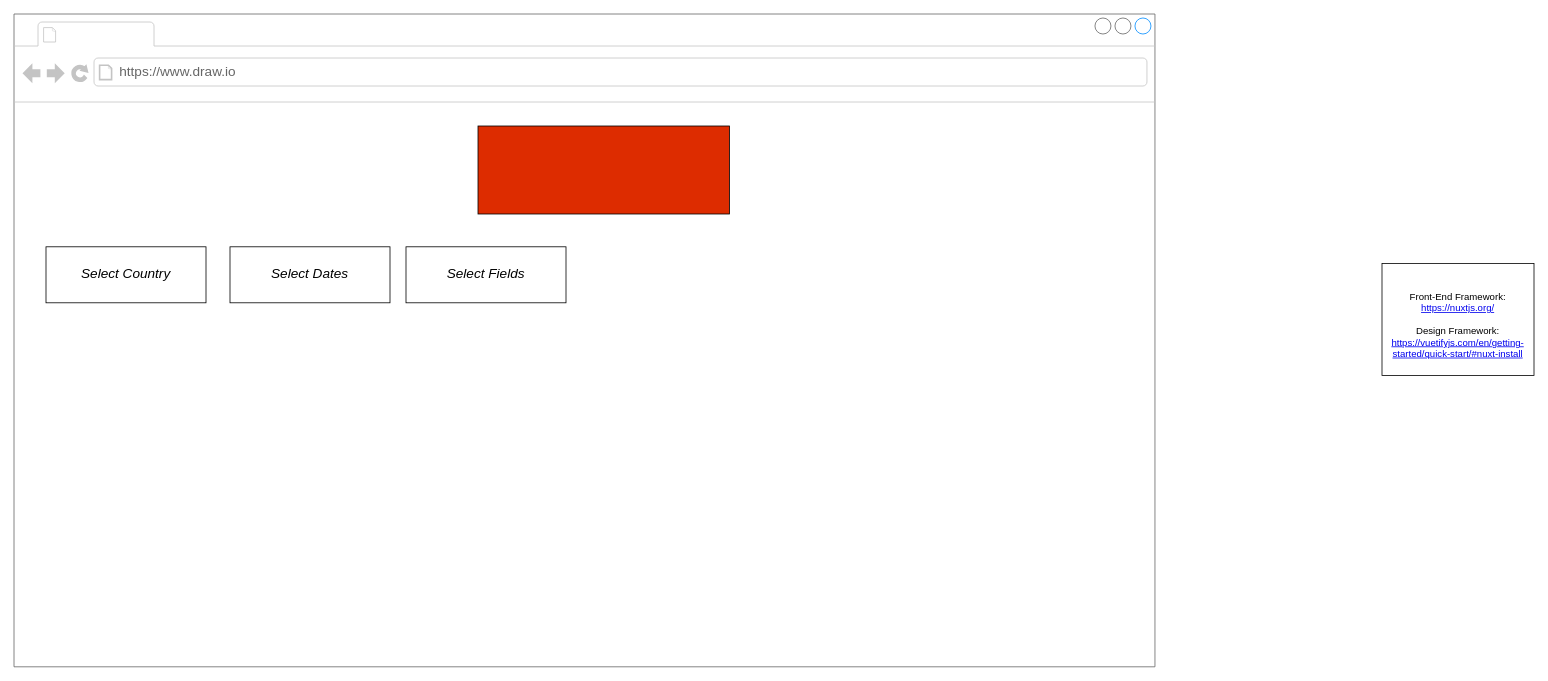
Some shapes in this 1548 by 681 pixel diagram are drawn without their labels. Each missing label, with the centre of its shape:
"COVID 19" goes at (x=603, y=169).
"Page 1" goes at (x=105, y=33).
